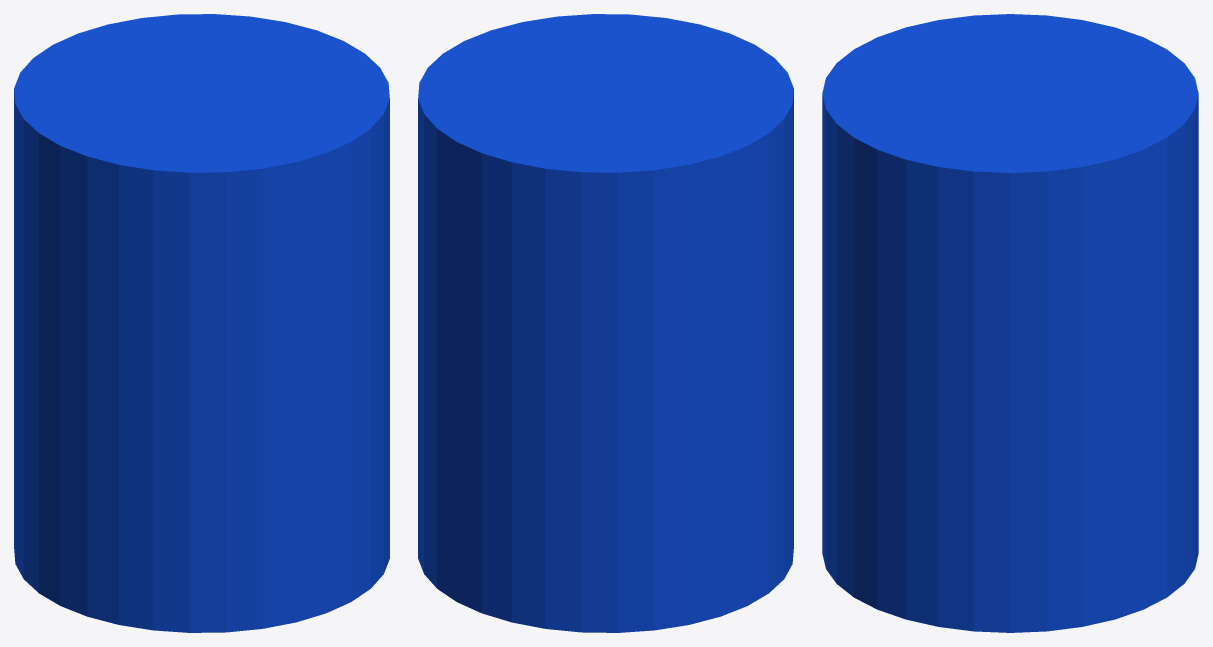
Rendered from Stencil.fbx.
3 renders of one model, left to right at view 1: azimuth 30°, elevation 25°; view 2: azimuth 150°, elevation 25°; view 3: azimuth 270°, elevation 25°, orthographic.
Visible parts, largest first — view 1: 圆环; view 2: 圆环; view 3: 圆环.
Part boxes in pixels (x1=…): 圆环: x1=14, y1=14, x2=389, y2=632; 圆环: x1=418, y1=14, x2=793, y2=632; 圆环: x1=822, y1=14, x2=1198, y2=632.
Bounding box in the file's own units: 200 × 270 × 200.
